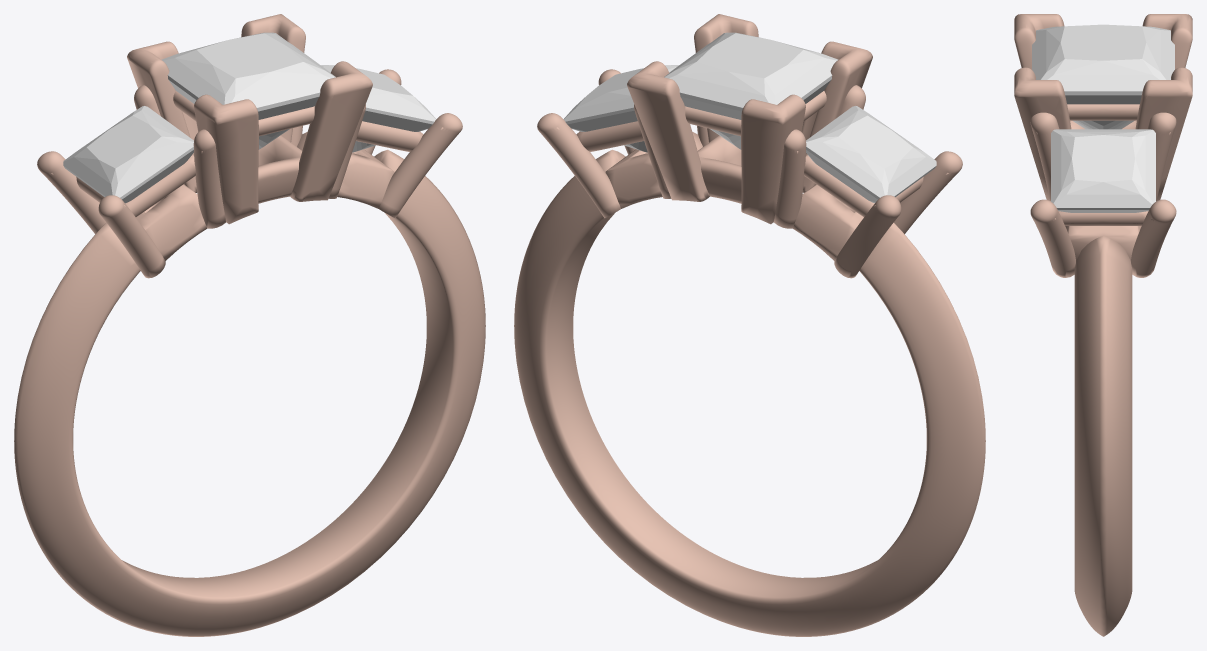
The model's file is diamond-princess-rosegold-protectededges4prongs-knifeedge-3stone.glb.
3 views of the same model, side by side, from view 1: azimuth 30°, elevation 25°; view 2: azimuth 150°, elevation 25°; view 3: azimuth 270°, elevation 25° (orthographic).
Visible parts, largest first — view 1: metal, stone, side.001, side; view 2: metal, stone, side.001, side; view 3: metal, stone, side.
Boxes of the visible parts, <box> form: metal: <box>14,14,485,636</box>; stone: <box>161,32,335,149</box>; side.001: <box>63,106,193,203</box>; side: <box>321,65,436,152</box>; metal: <box>514,14,985,636</box>; stone: <box>664,32,838,149</box>; side.001: <box>806,106,936,203</box>; side: <box>563,65,678,152</box>; metal: <box>1014,14,1192,636</box>; stone: <box>1032,24,1174,129</box>; side: <box>1051,129,1155,212</box>.
Bounding box in the file's own units: 20.49 × 23.85 × 6.77.
